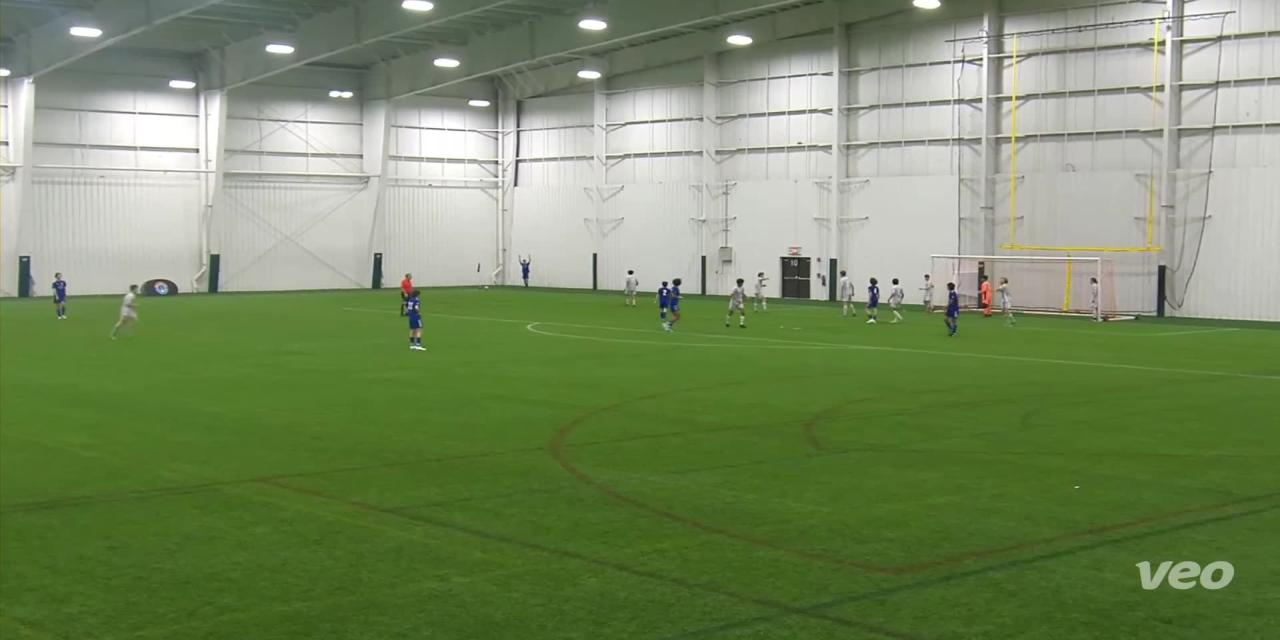goal: (920, 248, 1142, 327)
sports ball: (481, 280, 494, 292)
